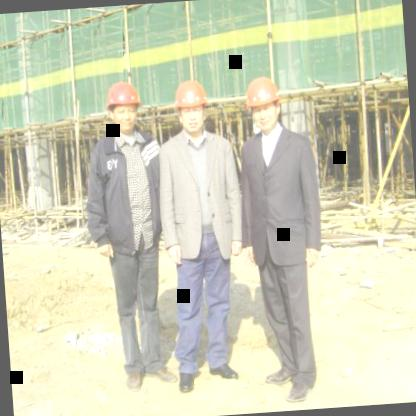helmet: (171, 76, 214, 140), (244, 74, 285, 138), (102, 79, 146, 138)
